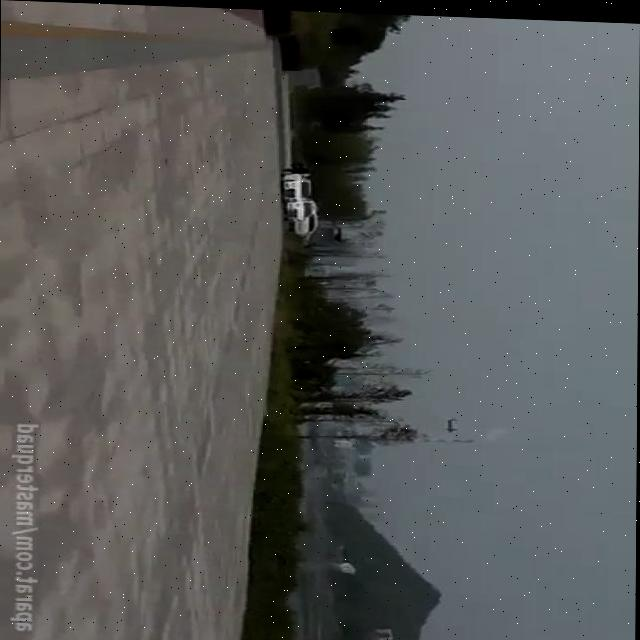drone: (446, 414, 466, 433)
